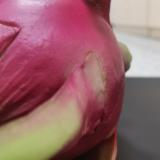pitaya: (1, 1, 129, 160)
